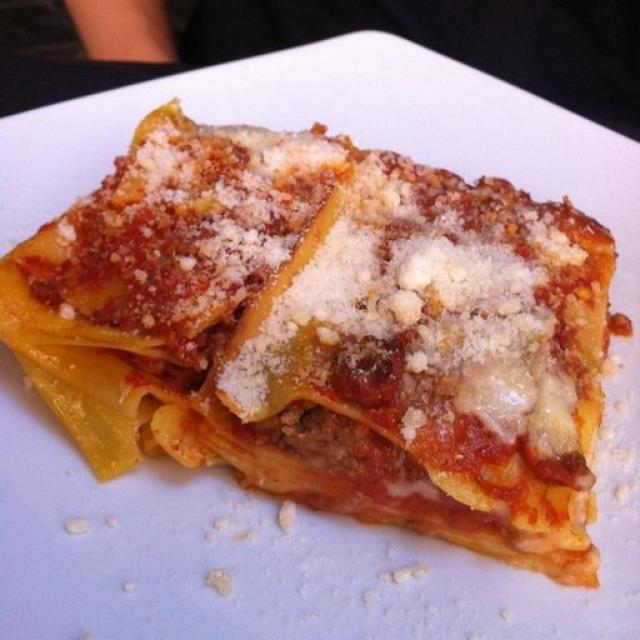Lasagna: (34, 75, 640, 601)
